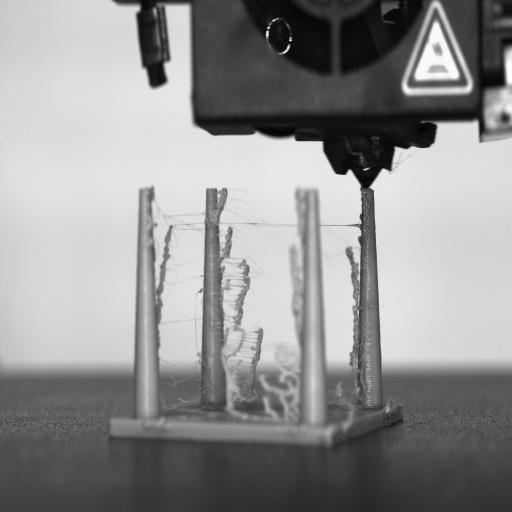spaghetti_and_stringing: (148, 190, 352, 424)
